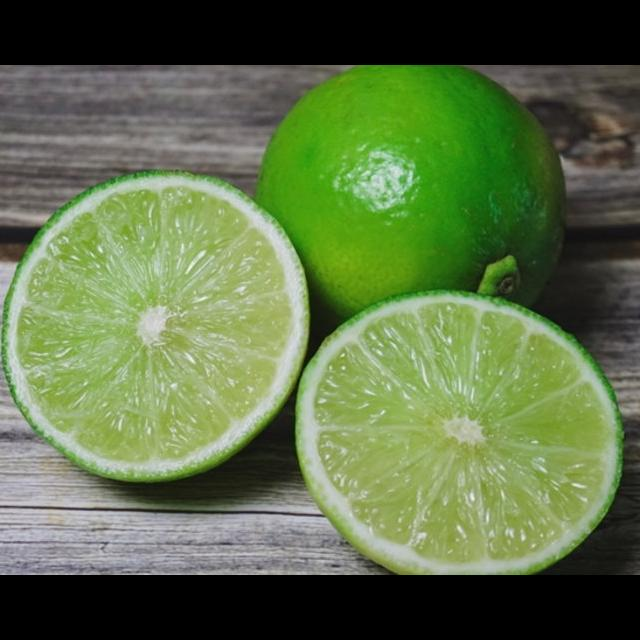lime: (249, 65, 576, 349)
